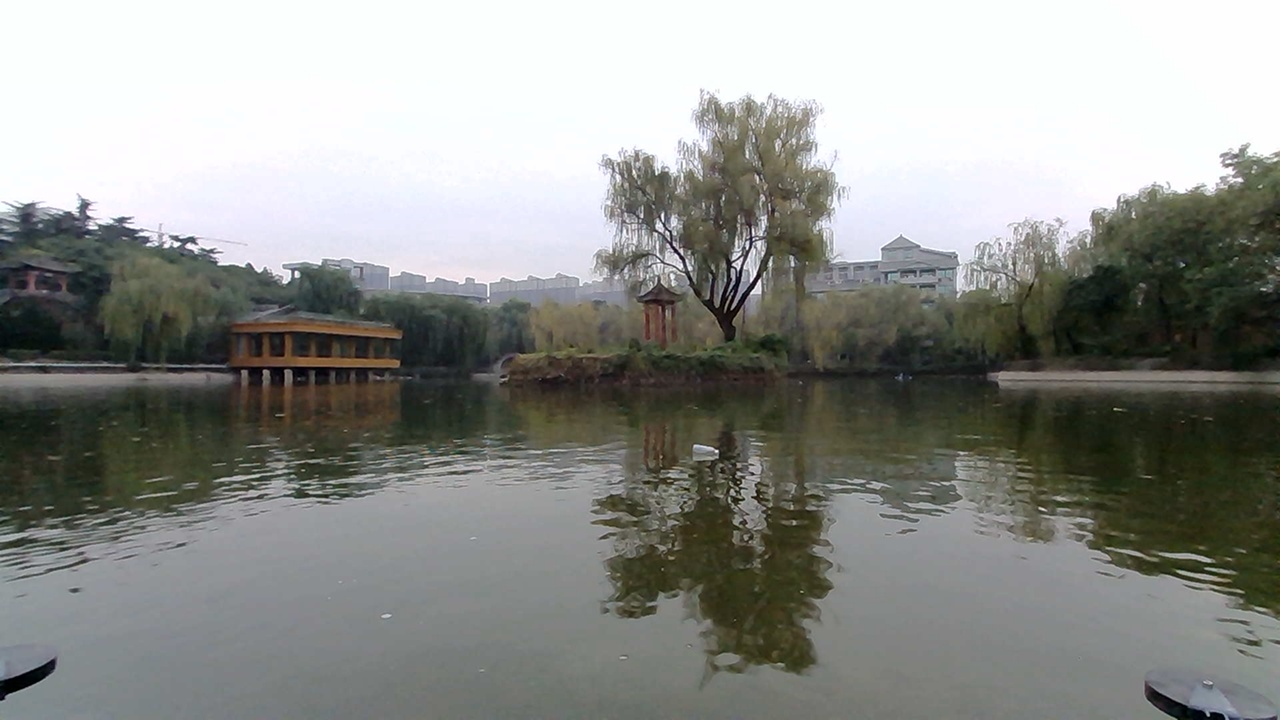bottle: (673, 429, 737, 462)
